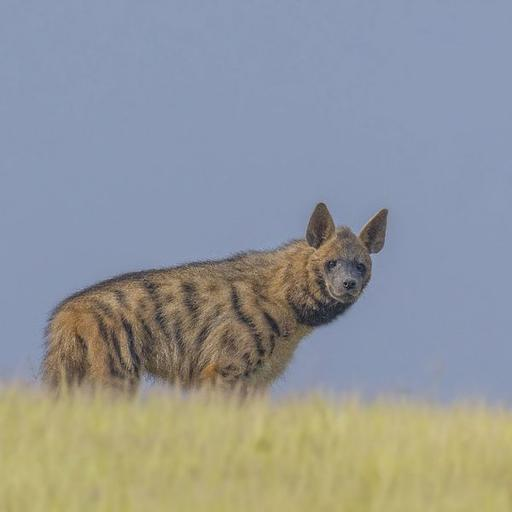Hyena: (36, 191, 398, 448)
